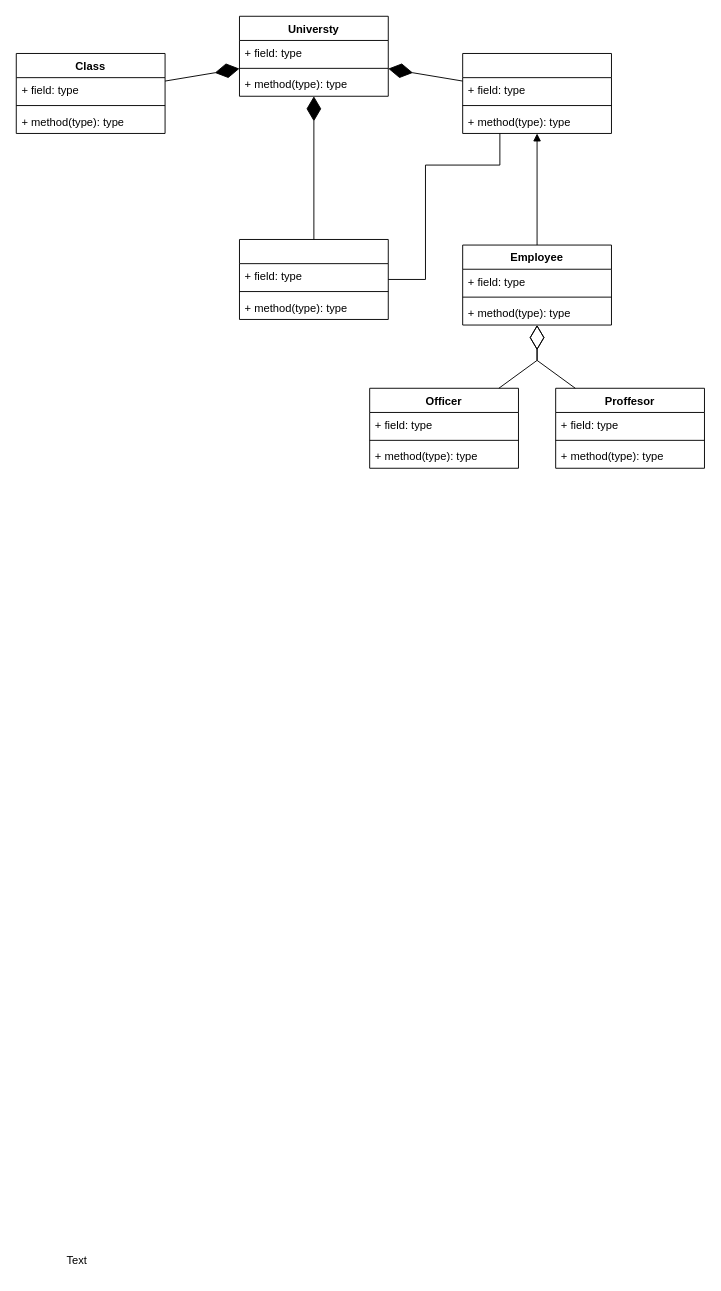
Some shapes in this 721 by 1291 pixel diagram are drawn without their labels. Each missing label, with the box of its shape:
Departman: (239, 239, 388, 319)
Office: (462, 53, 611, 133)
